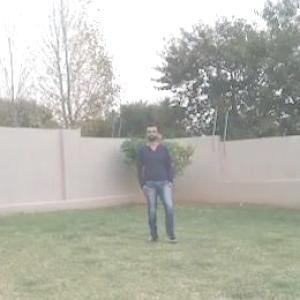follow: (143, 123, 173, 242)
